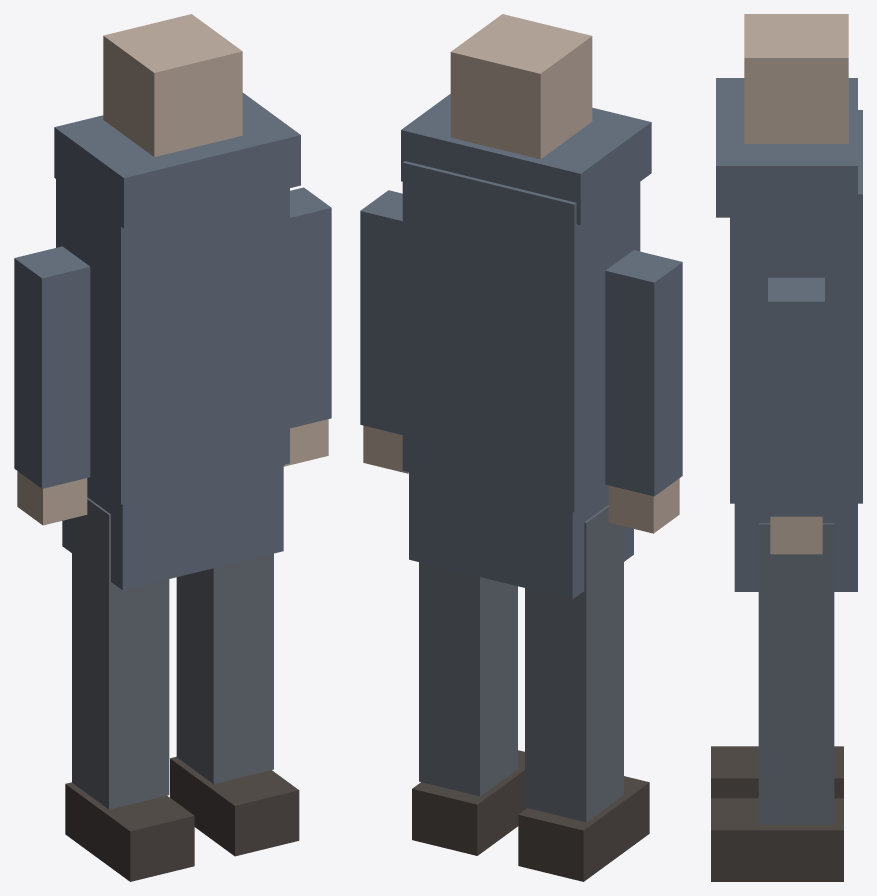
The model's file is person.glb.
3 renders of one model, left to right at view 1: azimuth 30°, elevation 25°; view 2: azimuth 150°, elevation 25°; view 3: azimuth 270°, elevation 25°, orthographic. The views are drawn at different scales.
Parts seen in each view (by area): view 1: Torso, LegL, LegR, ArmL, Head, ArmR; view 2: Torso, LegL, LegR, ArmL, Head, ArmR; view 3: Torso, LegR, ArmR, Head, LegL.
Part boxes in pixels (x1,y1,x2,y2): Torso: (54, 92, 300, 590); LegL: (65, 497, 194, 881); LegR: (170, 553, 299, 856); ArmL: (14, 246, 90, 525); Head: (103, 14, 242, 156); ArmR: (283, 187, 331, 466); Torso: (401, 94, 651, 599); LegL: (518, 505, 649, 881); LegR: (412, 562, 526, 855); ArmL: (605, 250, 682, 533); Head: (450, 14, 592, 159); ArmR: (360, 190, 408, 473); Torso: (716, 78, 862, 591); LegR: (711, 523, 843, 881); ArmR: (768, 277, 824, 554); Head: (744, 14, 848, 143); LegL: (711, 746, 843, 798).
Bounding box in the file's own units: 0.72 × 1.87 × 0.32.
